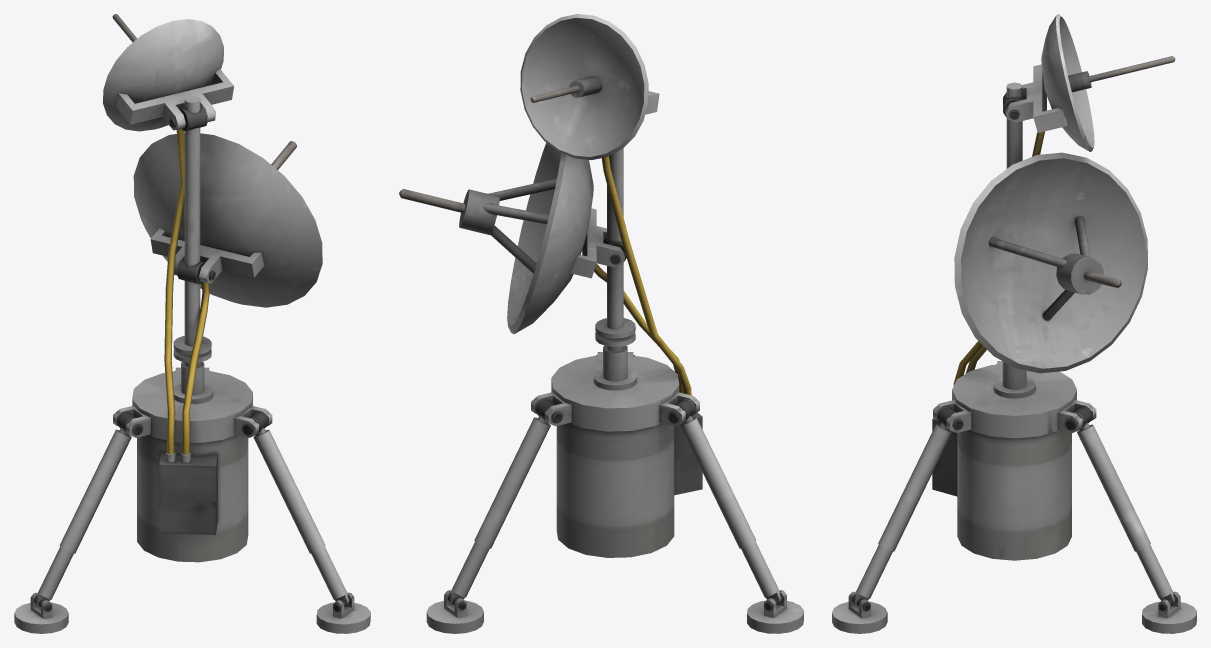
3 renders of one model, left to right at view 1: azimuth 30°, elevation 25°; view 2: azimuth 150°, elevation 25°; view 3: azimuth 270°, elevation 25°, orthographic. The views are drawn at different scales.
Parts seen in each view (by area): view 1: body0_model0_lod0_mesh0; view 2: body0_model0_lod0_mesh0; view 3: body0_model0_lod0_mesh0.
Part boxes in pixels (x1,y1,x2,y2): body0_model0_lod0_mesh0: (14,14,370,633); body0_model0_lod0_mesh0: (399,14,803,633); body0_model0_lod0_mesh0: (832,14,1196,633).
Size of the model in its own units: 150 by 240 by 141.
Materials: 1 (1 with a texture image).
